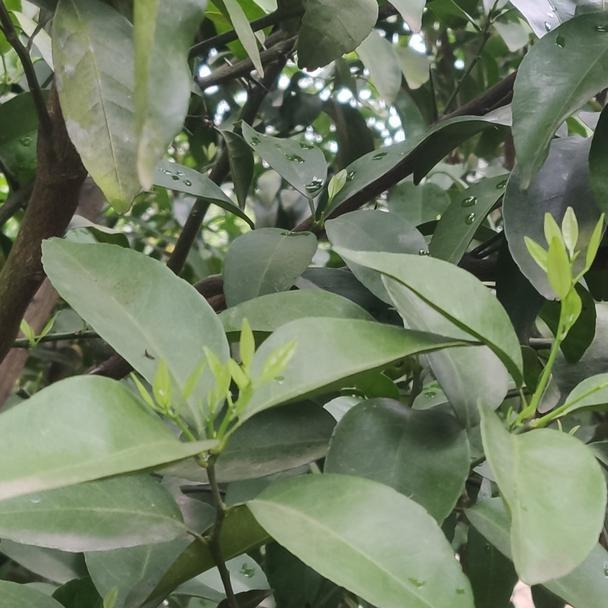shoot: (523, 210, 604, 392), (205, 330, 296, 442), (144, 357, 203, 444)
